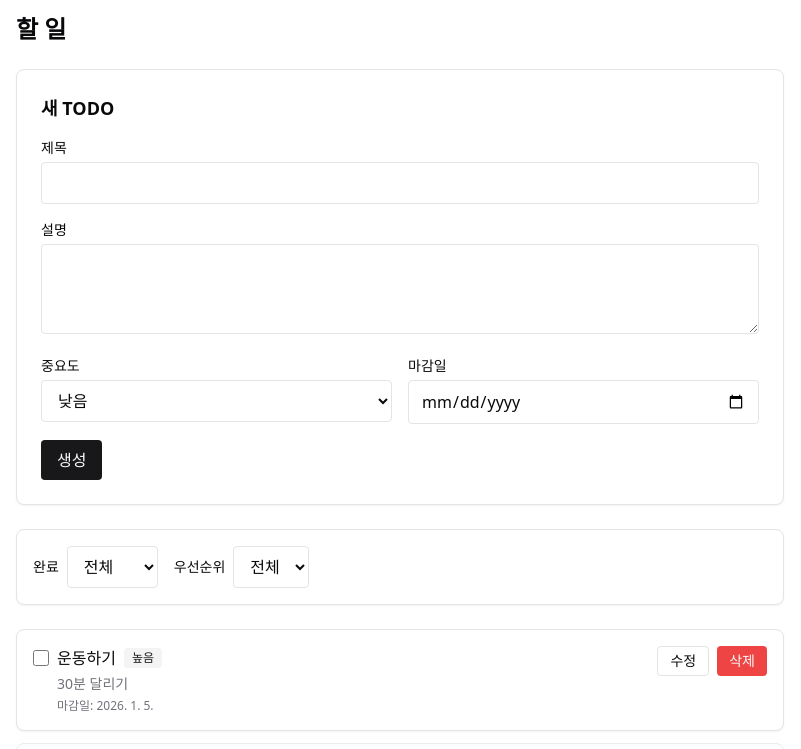
Test: Todos 페이지 › 수정 모드에서 취소하면 생성 폼으로 돌아온다
Click the button "수정".
click(683, 661)  # box [658,646,709,676]
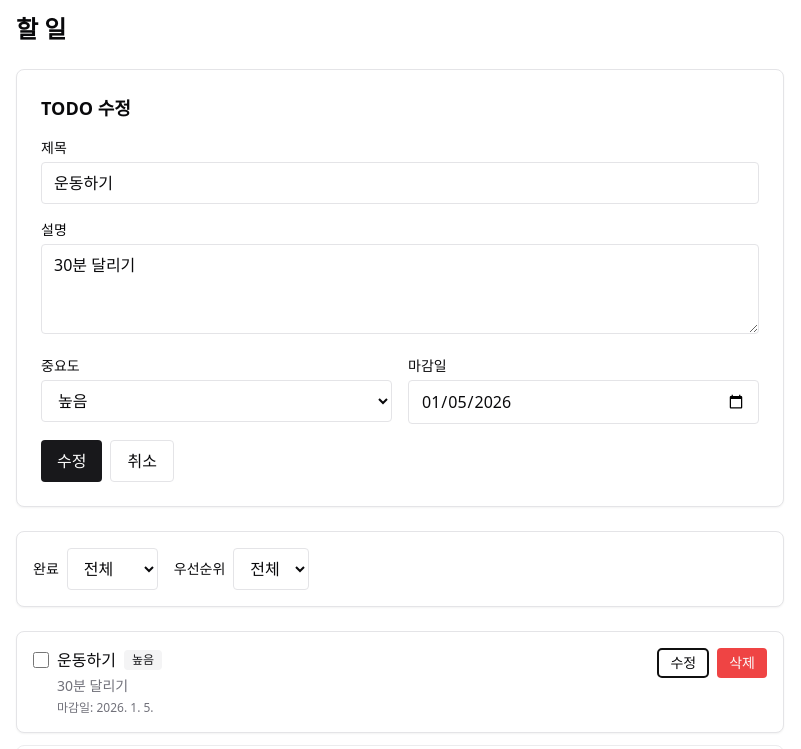
Click the button "취소".
click(142, 461)  # box [110,440,174,482]
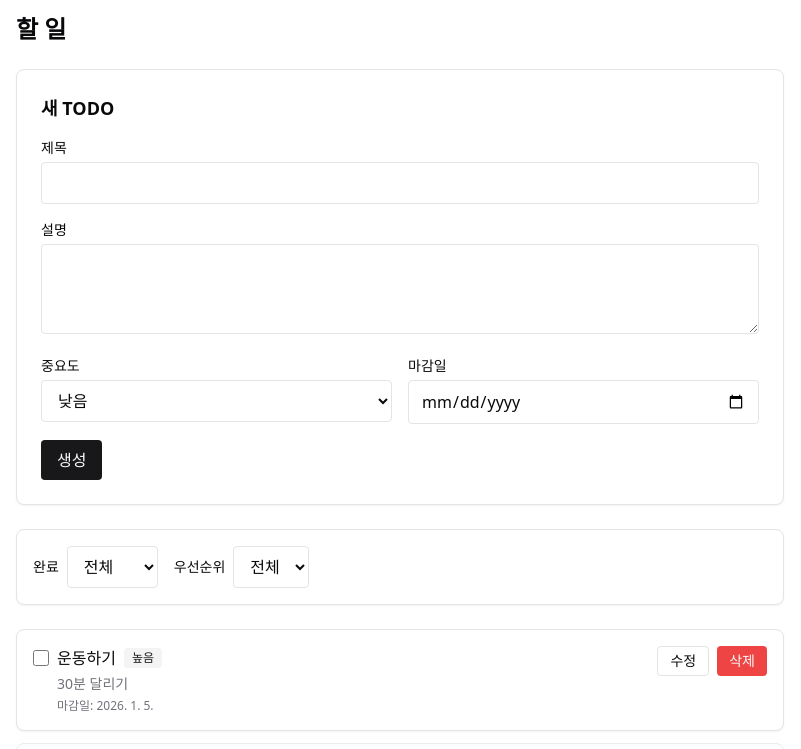
Result: the heading "새 TODO" is shown at [41,96,114,120]
Result: the field labelled "제목" is empty at [41,162,759,204]
